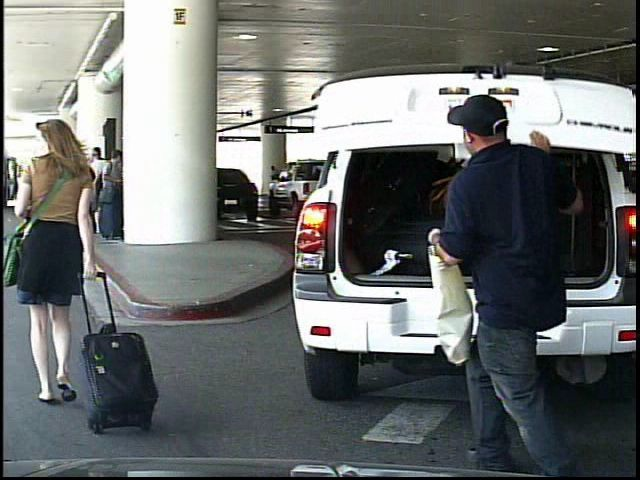person: (414, 87, 596, 476), (3, 118, 118, 432), (268, 164, 282, 200)
